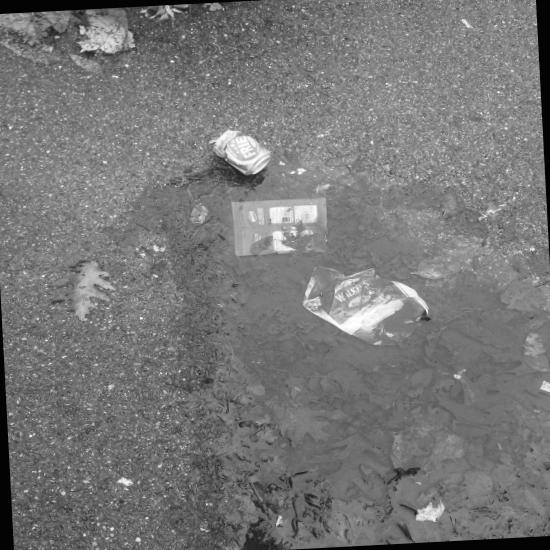Crisp packet: (301, 265, 431, 345), (231, 197, 328, 257)
Drink can: (212, 129, 271, 175)
